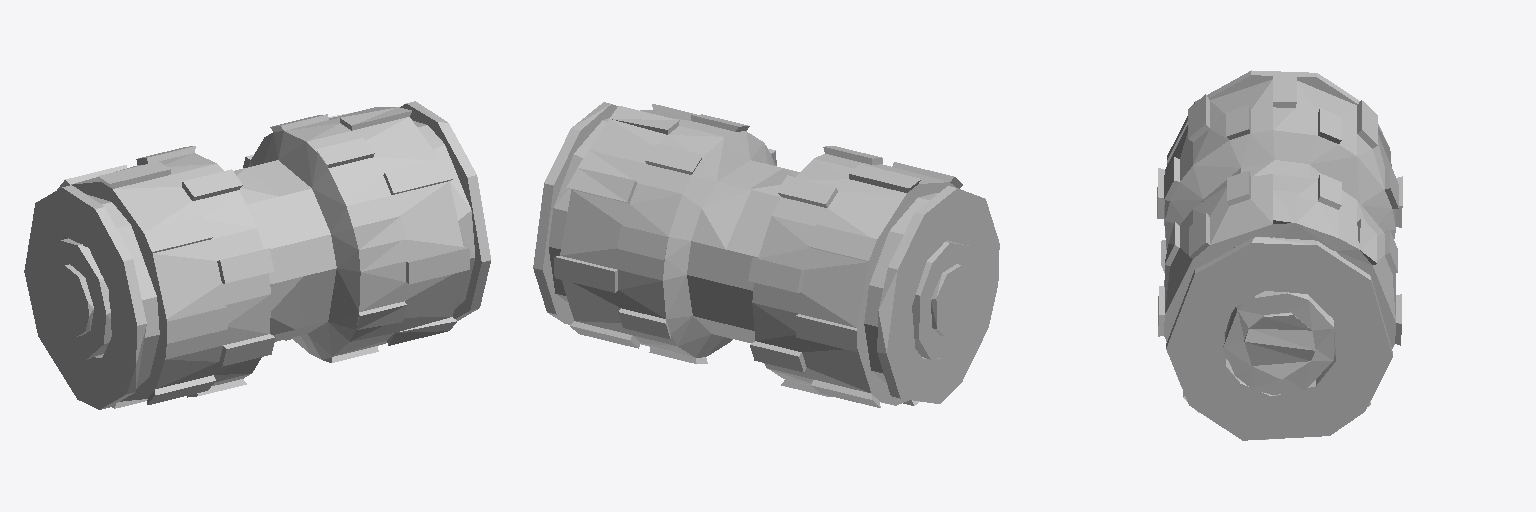
File: Kola_000020.obj
The picture shows the model from 3 angles: view 1: azimuth 30°, elevation 25°; view 2: azimuth 150°, elevation 25°; view 3: azimuth 270°, elevation 25°; orthographic projection.
Parts seen in each view (by area): view 1: Cylinder.004; view 2: Cylinder.004; view 3: Cylinder.004.
Boxes of the visible parts, x1=… form: Cylinder.004: x1=24, y1=101, x2=490, y2=409; Cylinder.004: x1=533, y1=102, x2=999, y2=407; Cylinder.004: x1=1157, y1=70, x2=1402, y2=440.
Size of the model in its own units: 2.17 by 1.25 by 1.25.